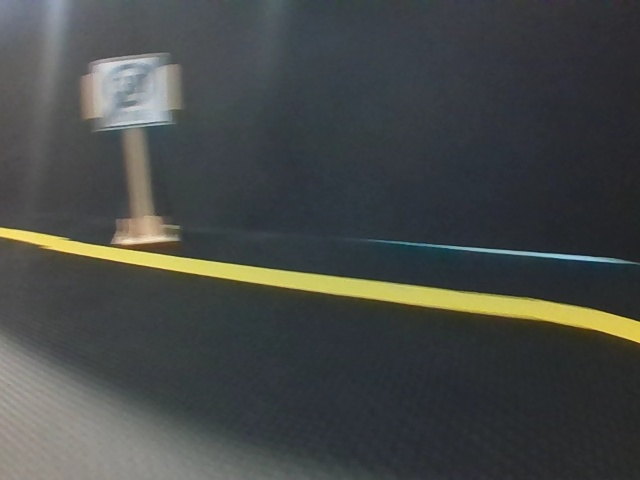no30: (93, 59, 169, 125)
